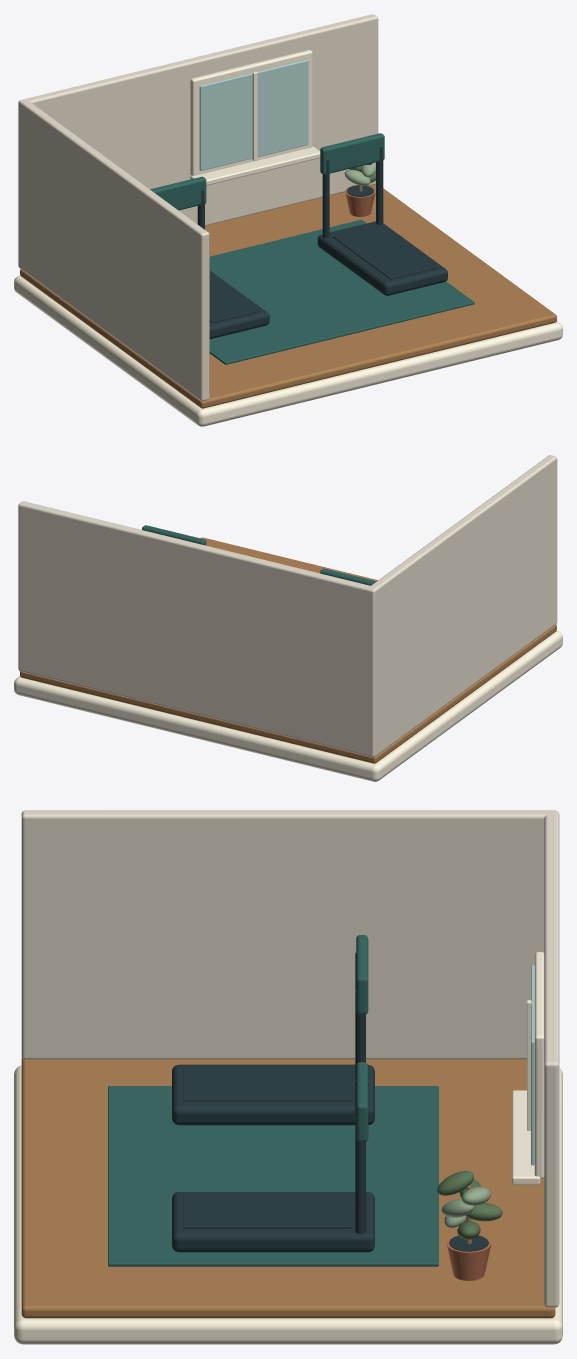
Rendered from destination-gym.glb.
3 renders of one model, top to bottom at view 1: azimuth 30°, elevation 25°; view 2: azimuth 150°, elevation 25°; view 3: azimuth 270°, elevation 25°, orthographic. The views are drawn at different scales.
Visible parts, largest first — view 1: side-wall, back-wall, floor, exercise-floor, foundation, window-glass, treadmill-base (×2), running-belt (×2), console (×2), window-frame, window-sill, rail (×2) (+2 smaller); view 2: back-wall, side-wall, foundation, floor, console; view 3: side-wall, floor, exercise-floor, foundation, treadmill-base (×2), running-belt (×2), back-wall, window-frame, console (×2), window-sill, ceramic-pot, rail (+1 smaller).
Part boxes in pixels (bbox=[...]): side-wall: bbox=[20, 100, 209, 401]; back-wall: bbox=[18, 14, 378, 269]; floor: bbox=[20, 184, 556, 408]; exercise-floor: bbox=[209, 219, 474, 364]; foundation: bbox=[14, 275, 562, 426]; window-glass: bbox=[199, 59, 308, 170]; treadmill-base (×2): bbox=[209, 221, 447, 339]; running-belt (×2): bbox=[209, 225, 436, 322]; console (×2): bbox=[150, 133, 384, 210]; window-frame: bbox=[190, 50, 312, 175]; window-sill: bbox=[190, 146, 320, 185]; rail (×2): bbox=[322, 147, 383, 238]; back-wall: bbox=[18, 501, 377, 757]; side-wall: bbox=[371, 455, 557, 754]; foundation: bbox=[14, 631, 562, 781]; floor: bbox=[20, 537, 556, 763]; console: bbox=[142, 525, 206, 545]; side-wall: bbox=[21, 810, 551, 1059]; floor: bbox=[21, 1058, 555, 1318]; exercise-floor: bbox=[108, 1086, 438, 1266]; foundation: bbox=[14, 1065, 562, 1344]; treadmill-base (×2): bbox=[172, 1064, 374, 1252]; running-belt (×2): bbox=[183, 1066, 351, 1228]; back-wall: bbox=[544, 810, 559, 1307]; window-frame: bbox=[534, 952, 544, 1178]; console (×2): bbox=[356, 935, 368, 1142]; window-sill: bbox=[512, 1090, 540, 1184]; ceramic-pot: bbox=[446, 1235, 491, 1280]; rail: bbox=[355, 1117, 365, 1234].
Bounding box in the file's own units: 4.1 × 2.06 × 3.65.
